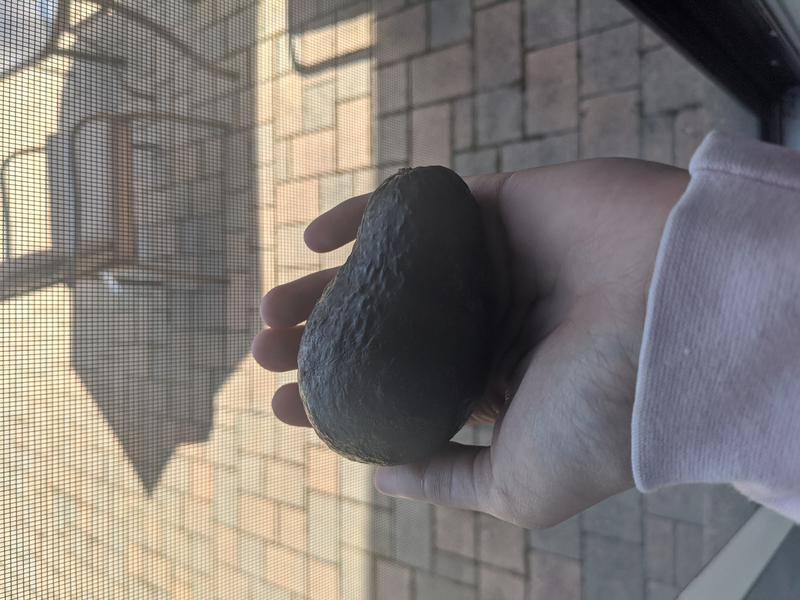avocado: (296, 166, 500, 470)
